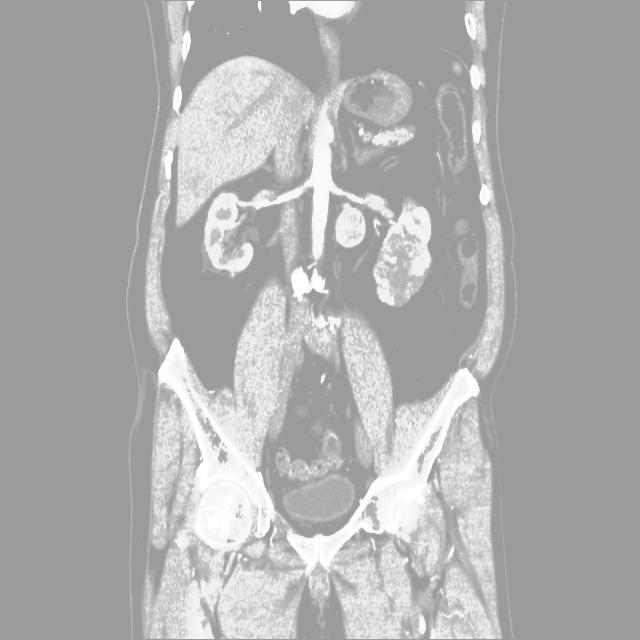TUMOR: (150, 102, 493, 329)
